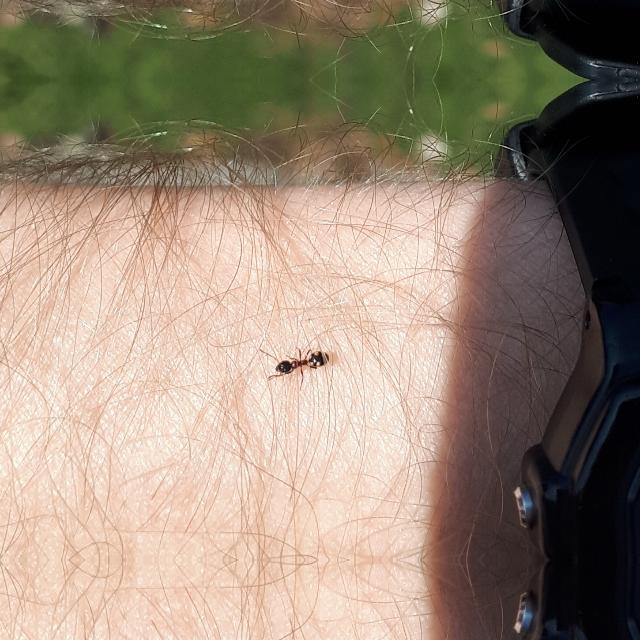Dolichoderus: (265, 339, 341, 378)
